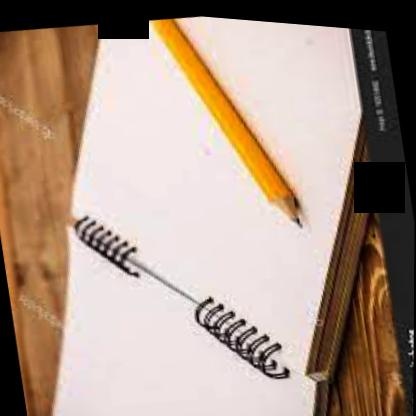pencil: (139, 16, 309, 227)
